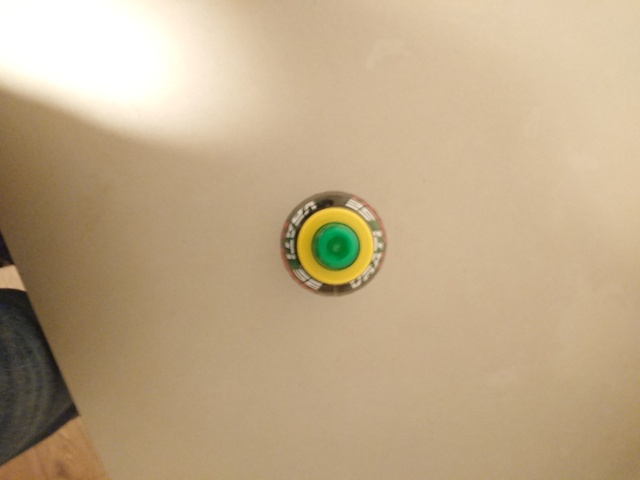Vindi Iso Sport Forest Strawberries 500mL: (278, 189, 389, 298)
